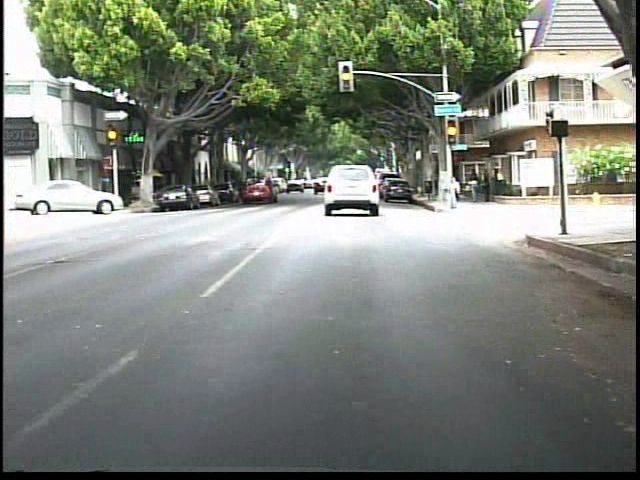person: (443, 173, 464, 212), (467, 169, 482, 205), (490, 160, 505, 196), (480, 167, 493, 204)
